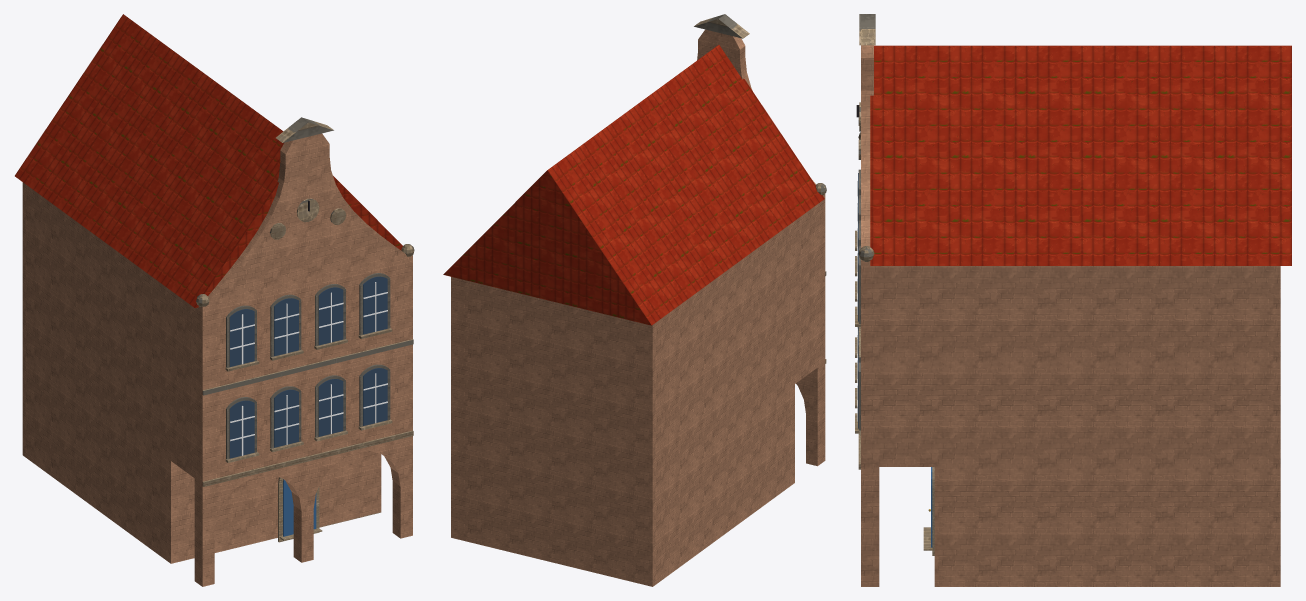
The model's file is hanseatica_w8_0.gltf.
The picture shows the model from 3 angles, left to right: view 1: azimuth 30°, elevation 25°; view 2: azimuth 150°, elevation 25°; view 3: azimuth 270°, elevation 25°; orthographic projection. The views are drawn at different scales.
Parts seen in each view (by area): view 1: hanseatica_w8_0; view 2: hanseatica_w8_0; view 3: hanseatica_w8_0.
Part boxes in pixels (x1,y1,x2,y2): hanseatica_w8_0: (15,14,414,586); hanseatica_w8_0: (443,14,826,586); hanseatica_w8_0: (855,14,1291,586).
Size of what is drawn, in the model's own units: 7.96 by 15.51 by 11.86.
Materials: 8 (4 with a texture image).
